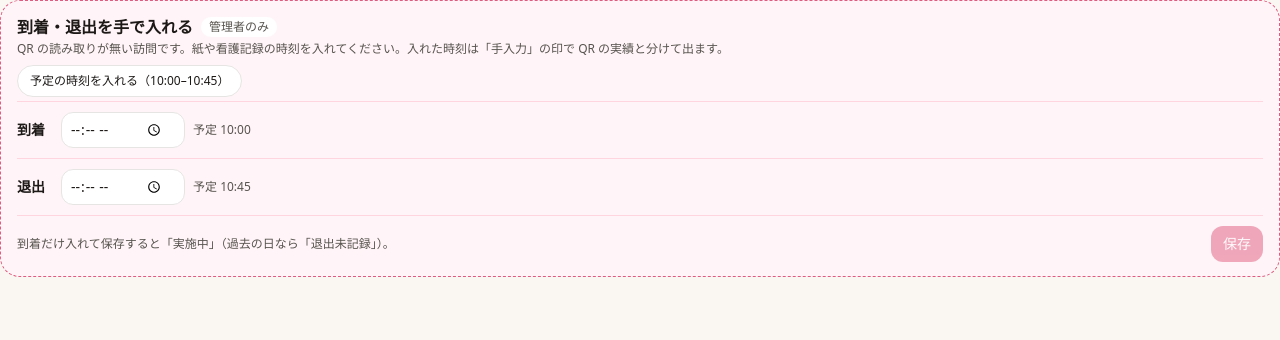
Scenario: ActualTimeAdjustBox — 打刻なしの訪問（到着・退出を手で入れる） › 退出が到着より前なら送らずに知らせる
The width and height of the screenshot is (1280, 340).
Type "10:00" into the time field named "到着の時刻" at (123, 130), box [61,112,185,148]
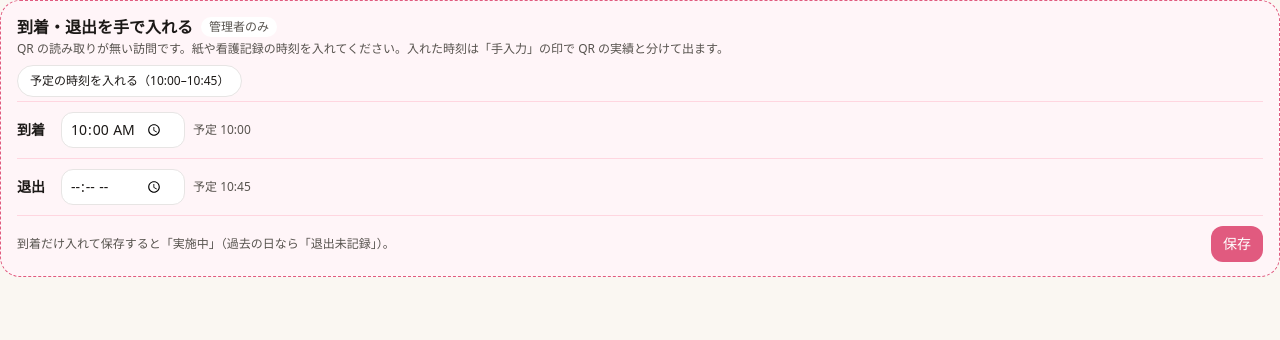
Type "09:50" into the time field named "退出の時刻" at (123, 187), box [61,169,185,205]
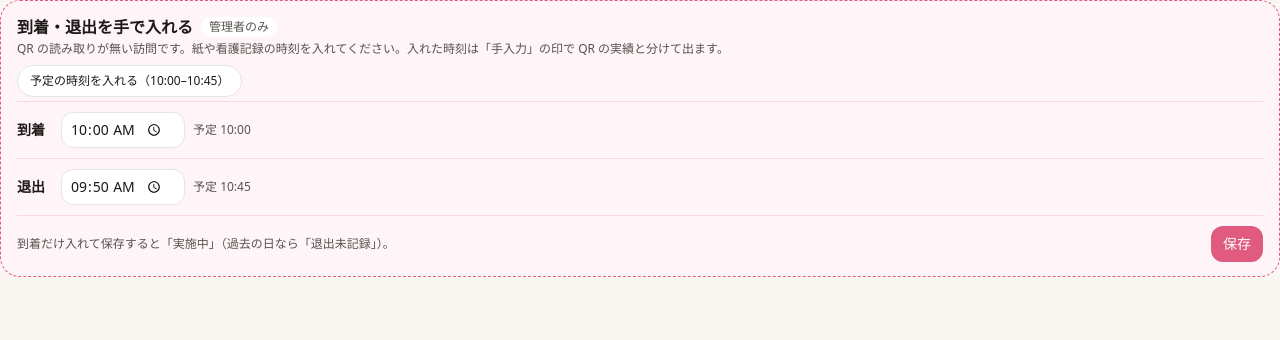
Click the button with test id "t-manual-save" at (1237, 244), box [1211,226,1263,262]
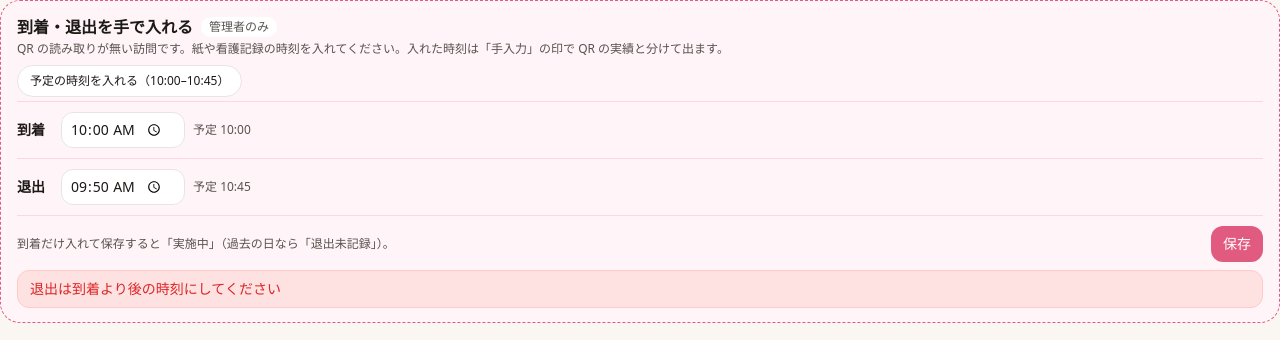
Expected: the message with test id "t-error" reads "退出は到着より後の時刻にしてください", [30,279,281,298]
